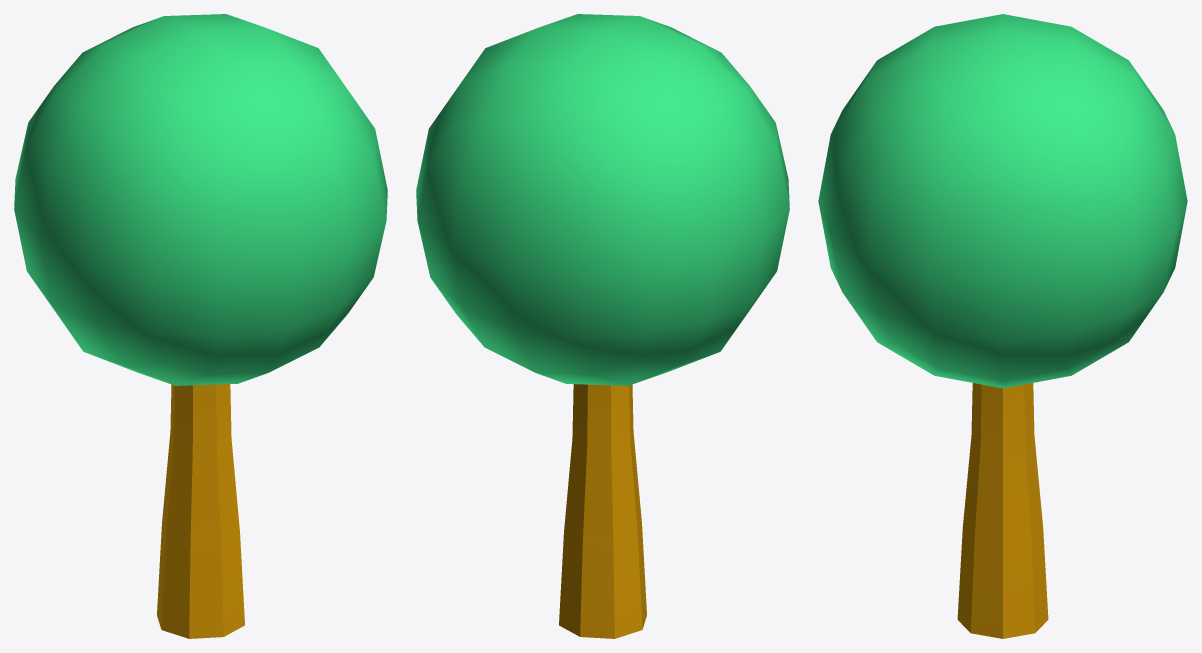
File: DEREVO.fbx
3 views of the same model, side by side, from view 1: azimuth 30°, elevation 25°; view 2: azimuth 150°, elevation 25°; view 3: azimuth 270°, elevation 25° (orthographic).
Parts seen in each view (by area): view 1: LISTVA, STVOL; view 2: LISTVA, STVOL; view 3: LISTVA, STVOL.
Part boxes in pixels (bbox=[...]): LISTVA: bbox=[14, 14, 387, 385]; STVOL: bbox=[157, 384, 244, 638]; LISTVA: bbox=[416, 14, 789, 385]; STVOL: bbox=[559, 384, 646, 638]; LISTVA: bbox=[818, 14, 1187, 388]; STVOL: bbox=[957, 383, 1048, 638].
Size of the model in its own units: 7.29 by 12.76 by 7.29.
